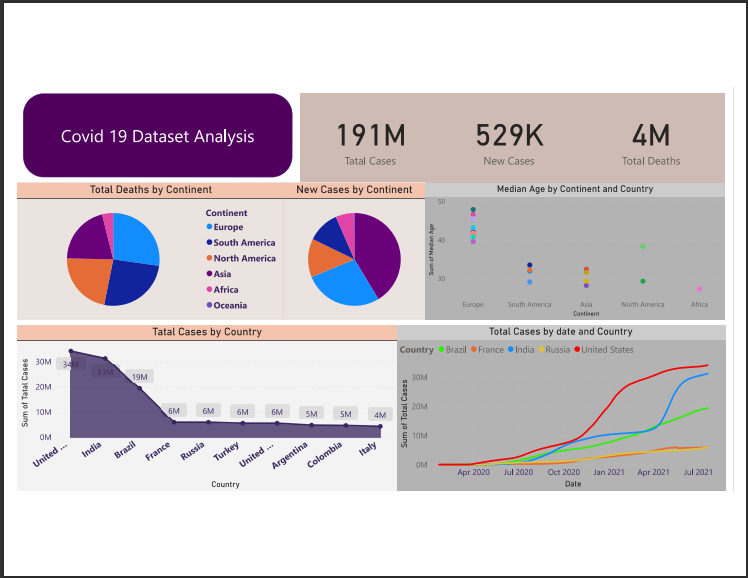

This screenshot's page, from the dashboard's own definition file:
{"tool":"powerbi","page":{"name":"Page 4","canvas":[1280,720],"ordinal":3},"visuals":[{"type":"shape","box":[10.2,10.2,481.5,149.3],"z":0},{"type":"pieChart","title":"Total Deaths by Continent","fields":{"Category":["Covid Final.Continent"],"Y":["Sum(Covid Final.Total Deaths)"]},"box":[1.1,170,475.6,244.4],"z":1000,"group":"g1"},{"type":"card","fields":{"Values":["Sum(Covid Final.Tatal Cases)"]},"box":[506.3,10.2,250.2,159.5],"z":1000},{"type":"pieChart","title":"New Cases by Continent","fields":{"Category":["Covid Final.Continent"],"Y":["Sum(Covid Final.New Cases)"]},"box":[476.6,170,253.2,244.4],"z":2000,"group":"g1"},{"type":"card","fields":{"Values":["Sum(Covid Final.Total Deaths)"]},"box":[1002.4,10.2,263.4,159.5],"z":2000},{"type":"group","id":"g1","title":"Group 2","box":[1.1,170,728.7,244.4],"z":3000},{"type":"card","fields":{"Values":["Sum(Covid Final.New Cases)"]},"box":[756.6,10.2,245.9,159.5],"z":4000},{"type":"areaChart","title":"Tatal Cases by Country","fields":{"Category":["Covid Final.Country"],"Y":["Sum(Covid Final.Tatal Cases)"]},"box":[0,424.4,679,295.6],"z":5000},{"type":"lineChart","title":"Median Age by Continent and Country","fields":{"Category":["Covid Final.Continent"],"Y":["Sum(Covid Final.Median Age)"],"Series":["Covid Final.Country"]},"box":[730.2,169.8,535.6,244.4],"z":6000},{"type":"lineChart","title":"Total Cases by date and Country","fields":{"Y":["Sum(Trend of Daily Cases.Total Cases)"],"Series":["Trend of Daily Cases.Country"],"Category":["Trend of Daily Cases.Date"]},"box":[679,424.4,586.8,295.6],"z":7000}]}

Visuals, with their boxes on the page's 1280x720 design canvas (x1, y1, x2, y2). These are canvas units, not pixel positions in the 748x578 screenshot, which may show the page scaled, cropped or inside an application window:
shape: detection(10, 10, 492, 160)
"Total Deaths by Continent" pieChart: detection(1, 170, 477, 414)
card - Sum(Covid Final.Tatal Cases): detection(506, 10, 756, 170)
"New Cases by Continent" pieChart: detection(477, 170, 730, 414)
card - Sum(Covid Final.Total Deaths): detection(1002, 10, 1266, 170)
"Group 2" group: detection(1, 170, 730, 414)
card - Sum(Covid Final.New Cases): detection(757, 10, 1002, 170)
"Tatal Cases by Country" areaChart: detection(0, 424, 679, 720)
"Median Age by Continent and Country" lineChart: detection(730, 170, 1266, 414)
"Total Cases by date and Country" lineChart: detection(679, 424, 1266, 720)
